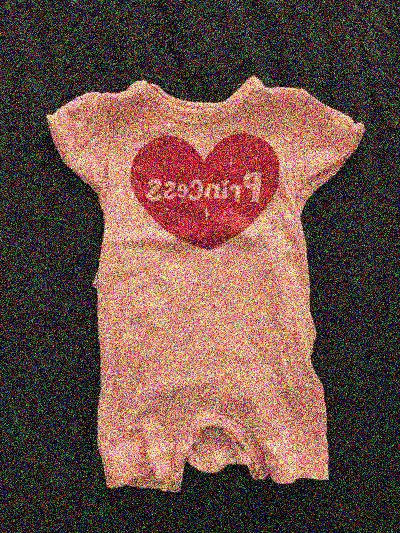Body: (32, 56, 393, 512)
